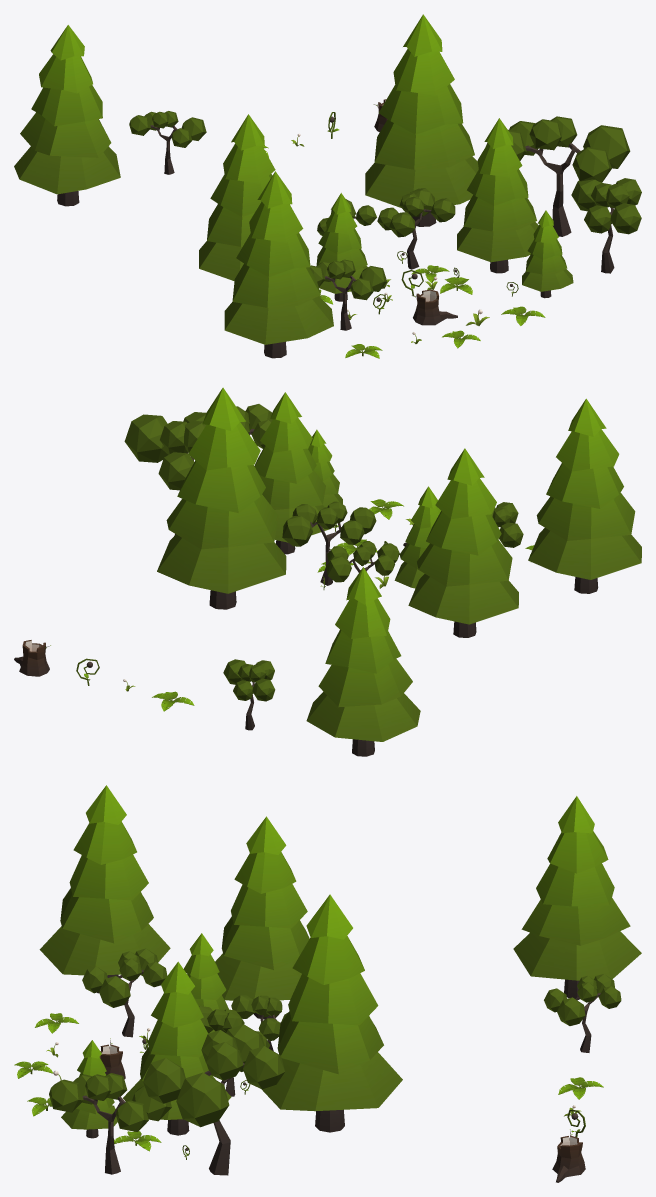
Rendered from forest.gltf.
The picture shows the model from 3 angles, top to bottom: view 1: azimuth 30°, elevation 25°; view 2: azimuth 150°, elevation 25°; view 3: azimuth 270°, elevation 25°; orthographic projection. The views are drawn at different scales.
Visible parts, largest first — view 1: tree_a.002, tree_a.001, tree_a.007, tree_a.004, tree_a.006, tree_b.002, tree_b.001, tree_a.005, tree_a.003, tree_b.004, tree_b.005, tree_b.006 (+2 smaller); view 2: tree_a.002, tree_a.001, tree_a.006, tree_a.007, tree_a.004, tree_b.002, tree_b.004, tree_a.005, tree_b.006, tree_b.003, tree_a.003, tree_b.005 (+2 smaller); view 3: tree_a.002, tree_a.007, tree_a.001, tree_a.006, tree_b.002, tree_a.004, tree_b.001, tree_b.005, tree_b.006, tree_a.005, tree_a.003, tree_b.003 (+3 smaller).
Boxes of the visible parts, box(x1,y1,x2,y2) form: tree_a.002: box(365, 14, 478, 226); tree_a.001: box(224, 171, 333, 358); tree_a.007: box(14, 25, 120, 206); tree_a.004: box(457, 118, 538, 273); tree_a.006: box(199, 114, 275, 281); tree_b.002: box(486, 116, 630, 236); tree_b.001: box(571, 178, 641, 273); tree_a.005: box(316, 193, 367, 301); tree_a.003: box(522, 210, 573, 298); tree_b.004: box(377, 188, 455, 269); tree_b.005: box(309, 259, 387, 330); tree_b.006: box(129, 111, 206, 174); tree_a.002: box(157, 387, 286, 609); tree_a.001: box(528, 398, 641, 593); tree_a.006: box(408, 448, 518, 637); tree_a.007: box(306, 567, 420, 756); tree_a.004: box(254, 392, 331, 554); tree_b.002: box(124, 412, 206, 534); tree_b.004: box(282, 501, 376, 585); tree_a.005: box(394, 486, 440, 588); tree_b.006: box(223, 659, 275, 730); tree_b.003: box(325, 541, 399, 582); tree_a.003: box(308, 429, 342, 507); tree_b.005: box(491, 502, 523, 547); tree_a.002: box(261, 894, 402, 1132); tree_a.007: box(513, 796, 641, 998); tree_a.001: box(39, 785, 170, 993); tree_a.006: box(215, 816, 309, 1019); tree_b.002: box(143, 1024, 284, 1175); tree_a.004: box(123, 961, 231, 1135); tree_b.001: box(49, 1073, 171, 1174); tree_b.005: box(82, 948, 167, 1037); tree_b.006: box(544, 974, 621, 1052); tree_a.005: box(183, 933, 228, 1033); tree_a.003: box(61, 1040, 117, 1138); tree_b.003: box(231, 995, 288, 1050).
Bounding box in the file's own units: 4.27 × 1.93 × 4.66.
Materials: 4 (4 with a texture image).
